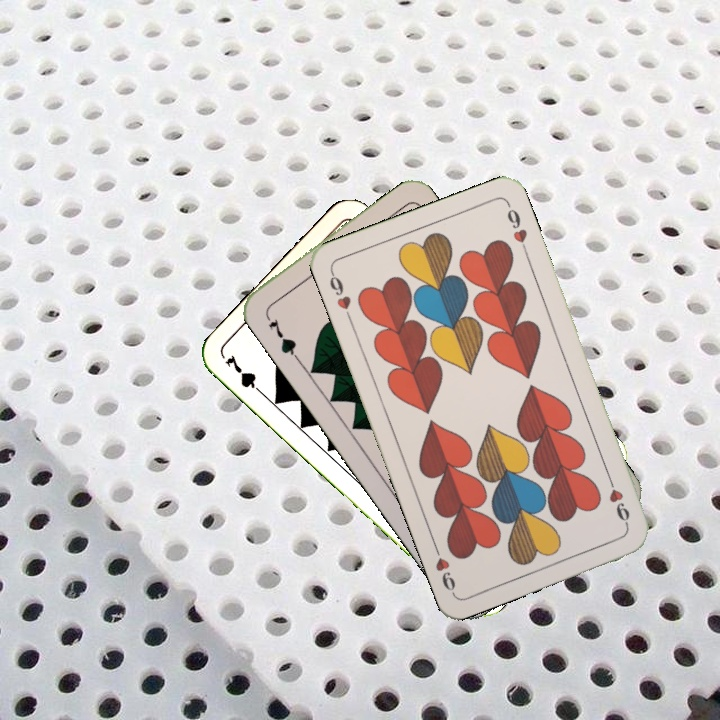G7: (221, 350, 268, 399), (261, 309, 300, 361)
H9: (603, 472, 633, 529), (325, 267, 354, 324)
